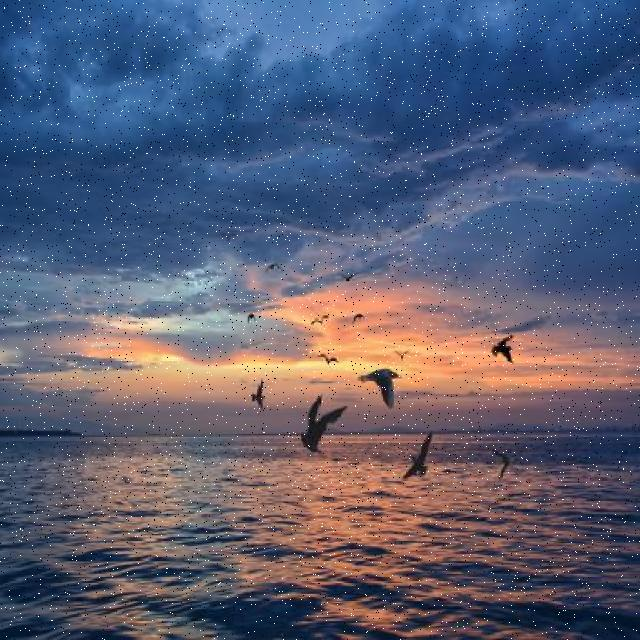bird: (298, 396, 346, 458), (402, 427, 436, 484), (362, 365, 404, 407), (484, 438, 516, 486), (490, 333, 516, 369), (332, 268, 364, 286), (260, 259, 286, 279), (251, 377, 266, 411), (309, 313, 329, 330), (352, 310, 366, 332), (244, 308, 258, 330), (320, 352, 338, 368), (394, 346, 409, 362)
